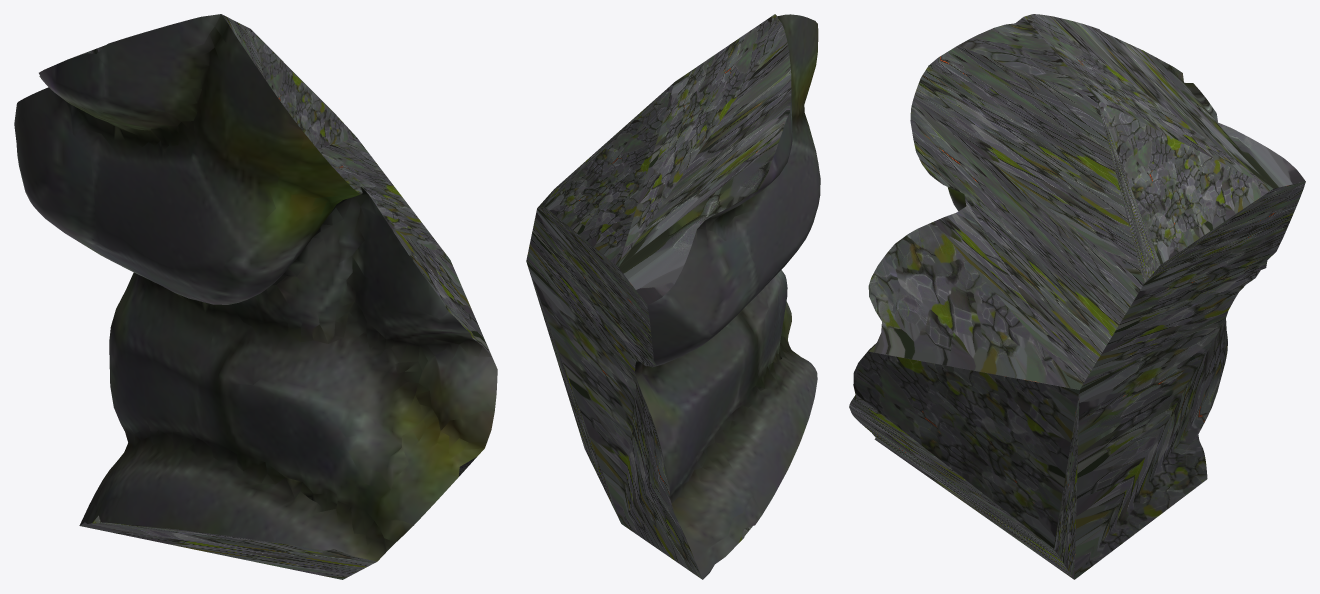
File: Frag_11.gltf
The picture shows the model from 3 angles, left to right: view 1: azimuth 30°, elevation 25°; view 2: azimuth 150°, elevation 25°; view 3: azimuth 270°, elevation 25°; orthographic projection. The views are drawn at different scales.
Parts seen in each view (by area): view 1: Frag_11; view 2: Frag_11; view 3: Frag_11.
Boxes of the visible parts, box(x1,y1,x2,y2) form: Frag_11: box(14, 14, 497, 579); Frag_11: box(526, 14, 820, 579); Frag_11: box(849, 14, 1305, 579).
Size of the model in its own units: 0.2192 by 0.3769 by 0.31.
Materials: 1 (1 with a texture image).
